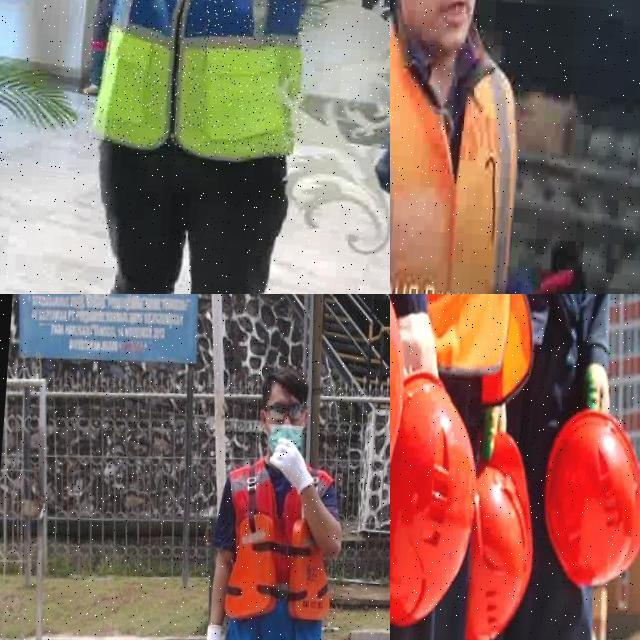helmet: (390, 363, 487, 640), (537, 405, 640, 593), (463, 429, 543, 640)
vest: (80, 0, 322, 163), (390, 15, 530, 294), (211, 454, 345, 640), (391, 294, 558, 410)
